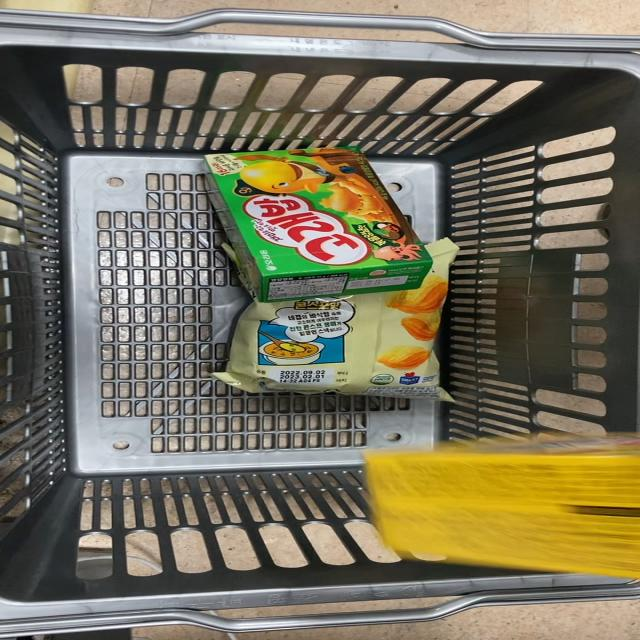ggobukchip: (226, 288, 474, 396)
goraebob: (206, 143, 415, 273)
